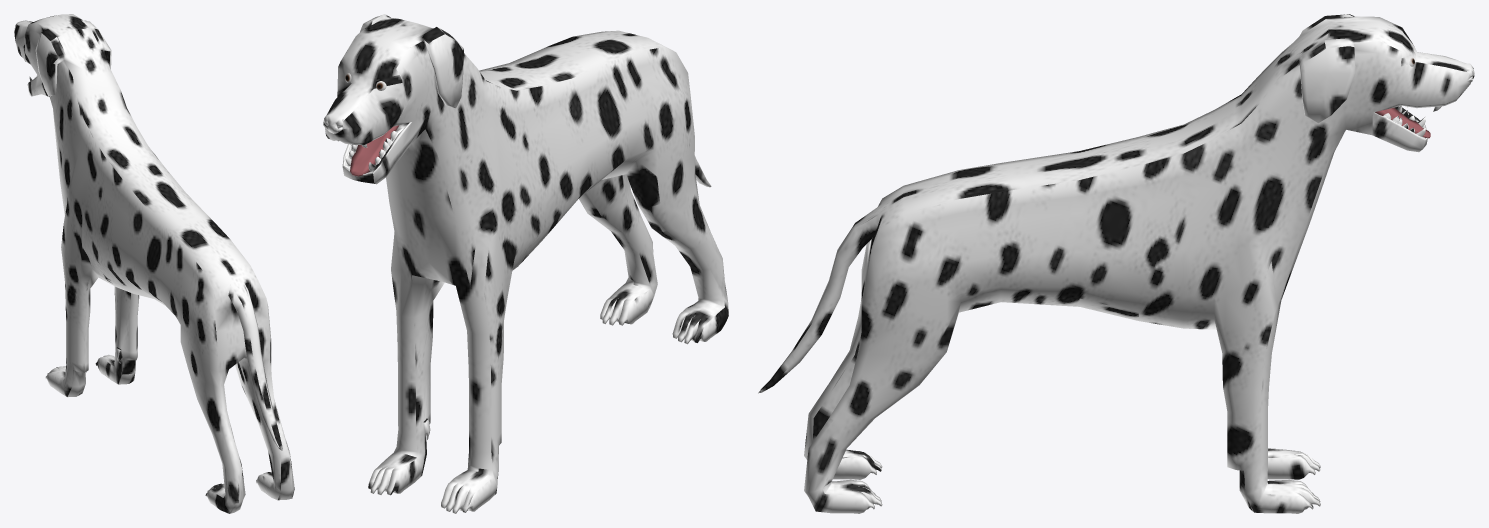
File: ToesDalmatian.fbx
The picture shows the model from 3 angles, left to right: view 1: azimuth 30°, elevation 25°; view 2: azimuth 150°, elevation 25°; view 3: azimuth 270°, elevation 25°; orthographic projection. The views are drawn at different scales.
Visible parts, largest first — view 1: dogBody.002; view 2: dogBody.002, tongue.002; view 3: dogBody.002.
Boxes of the visible parts, x1,y1,x2,y2 form: dogBody.002: (14, 14, 294, 513); dogBody.002: (323, 14, 728, 513); tongue.002: (350, 125, 399, 176); dogBody.002: (758, 14, 1474, 513).
Bounding box in the file's own units: 67.42 × 307 × 429.
